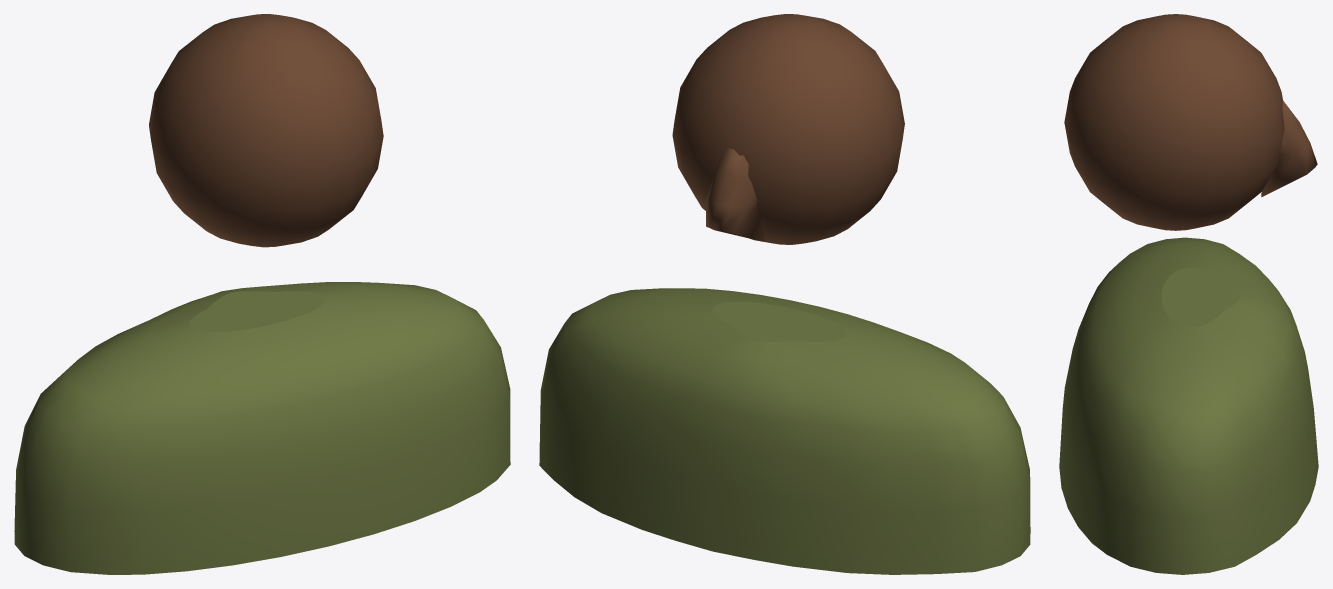
Rendered from NPC1.fbx.
The picture shows the model from 3 angles, left to right: view 1: azimuth 30°, elevation 25°; view 2: azimuth 150°, elevation 25°; view 3: azimuth 270°, elevation 25°; orthographic projection. The views are drawn at different scales.
Parts seen in each view (by area): view 1: pCylinder15; view 2: pCylinder15; view 3: pCylinder15.
Boxes of the visible parts, x1,y1,x2,y2 form: pCylinder15: (14,14,510,574); pCylinder15: (539,14,1030,574); pCylinder15: (1059,14,1318,574).
Size of the model in its own units: 1.65 by 1.57 by 0.8349.
